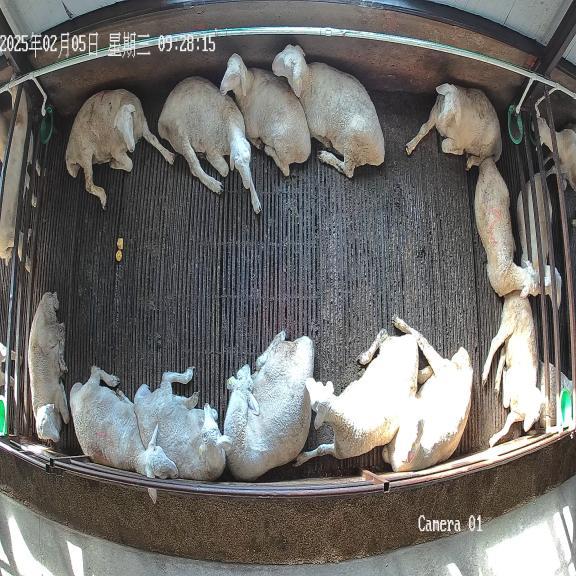lying: (296, 329, 418, 465), (272, 45, 385, 178), (383, 316, 473, 472), (158, 77, 261, 213), (224, 331, 314, 481), (65, 89, 175, 208), (70, 366, 178, 478), (220, 53, 311, 176), (134, 367, 232, 480), (482, 291, 544, 446), (474, 159, 540, 297), (406, 83, 502, 170), (28, 292, 70, 442)
